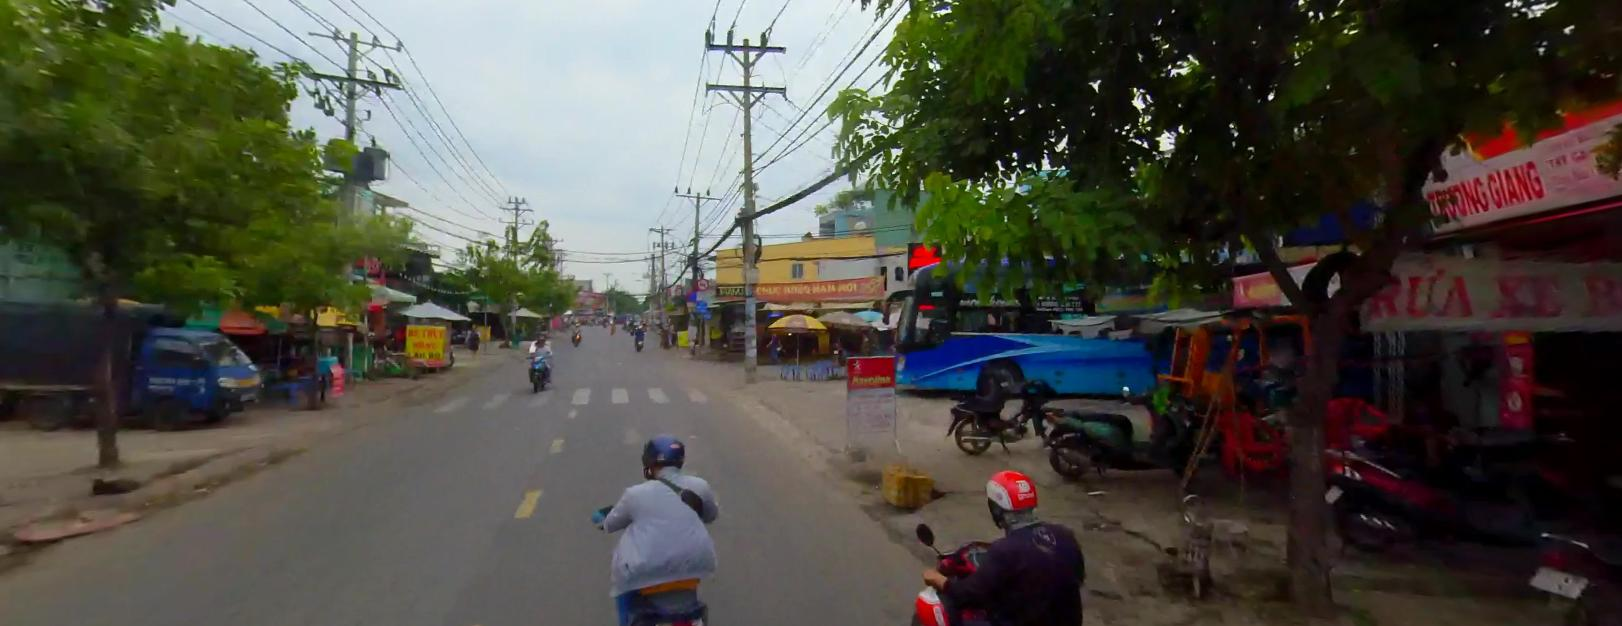Cam con lai: (696, 276, 708, 289)
Cam dung va do: (686, 288, 698, 299)
